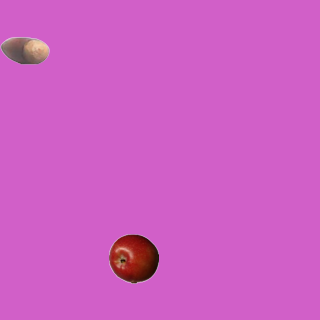Apple Braeburn: (108, 233, 158, 283)
Hazelnut: (0, 25, 49, 75)
